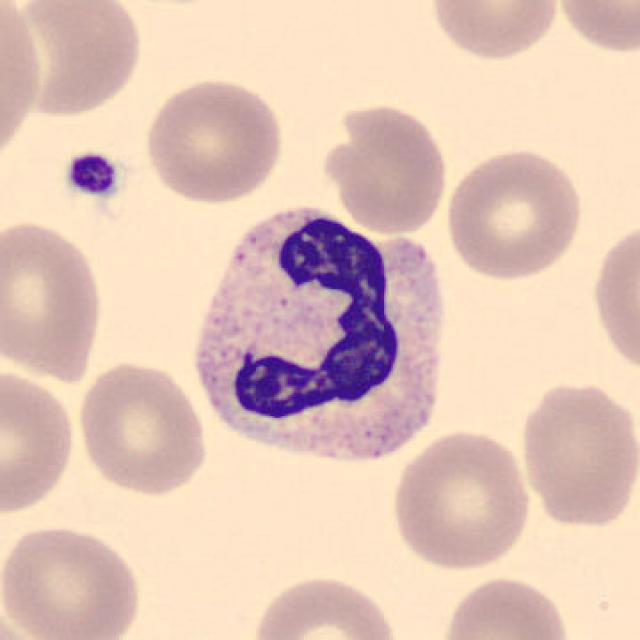Neutrophil: (182, 192, 460, 481)
Platelets: (60, 148, 124, 201)
RBC: (388, 425, 535, 575), (441, 143, 587, 284), (73, 356, 211, 499), (139, 74, 288, 206), (514, 376, 638, 532), (316, 100, 452, 237), (0, 215, 108, 386), (2, 520, 146, 640), (7, 0, 148, 120), (0, 367, 80, 518), (247, 571, 404, 640), (436, 573, 574, 640), (424, 0, 563, 63), (587, 213, 638, 381), (0, 2, 46, 167), (553, 0, 638, 58), (0, 603, 48, 640)
